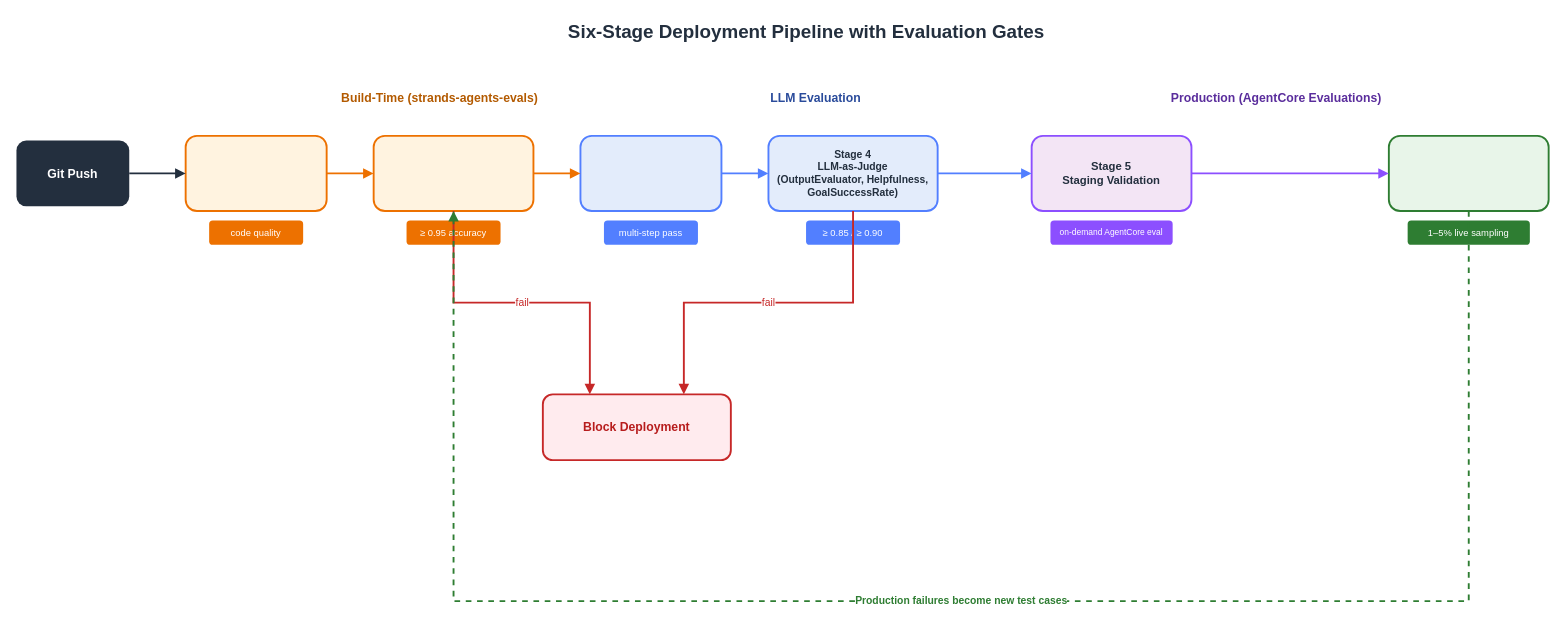
The diagram is 1565 pixels wide and 625 high, and some of its shapes have lost their labels. Here are the shapes that lost their labels. From the top down, the centre of each, then its label:
At [255,173]: "Stage 1 Unit Tests and Lint".
At [453,173]: "Stage 2 Tool Correctness (ToolSelectionGrader, TrajectoryOrderGrader)".
At [650,173]: "Stage 3 Trajectory Tests".
At [1468,173]: "Stage 6 Online Evaluation".
